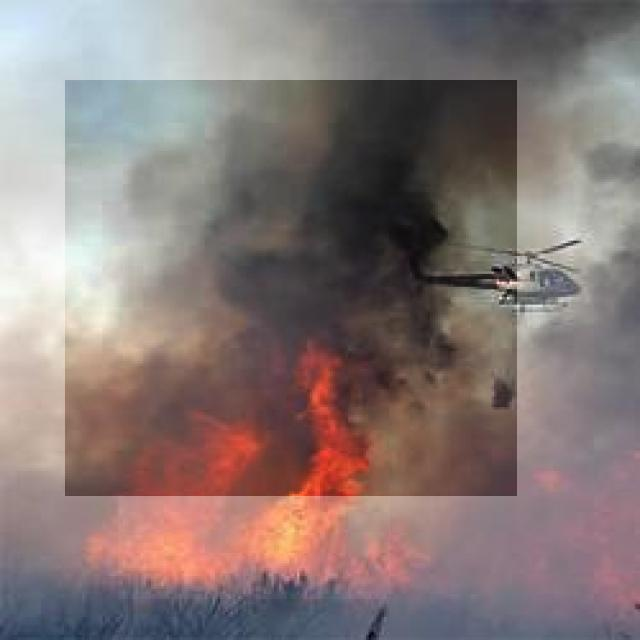Fire: (118, 383, 390, 599)
Smoke: (65, 80, 517, 496)
